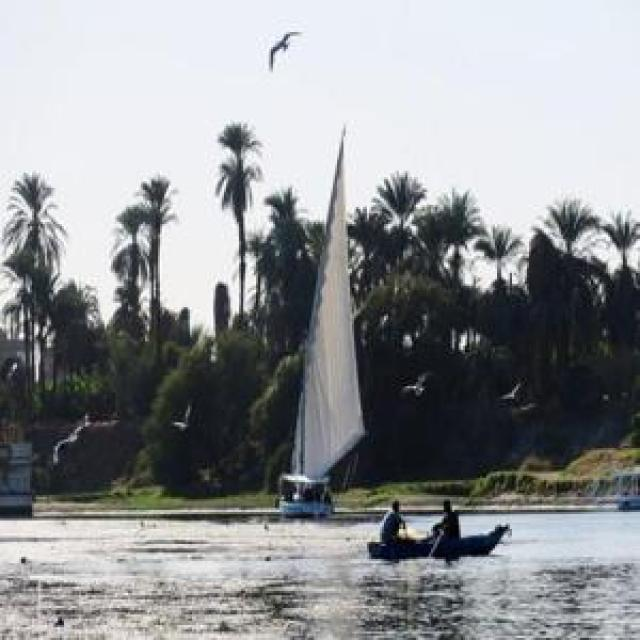sailboat: (272, 116, 367, 523)
